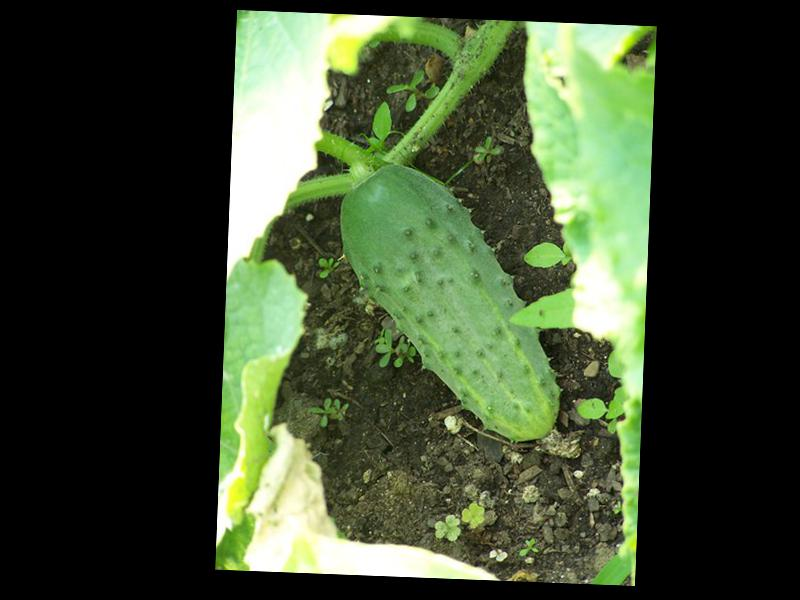Cucumber: (330, 160, 568, 442)
